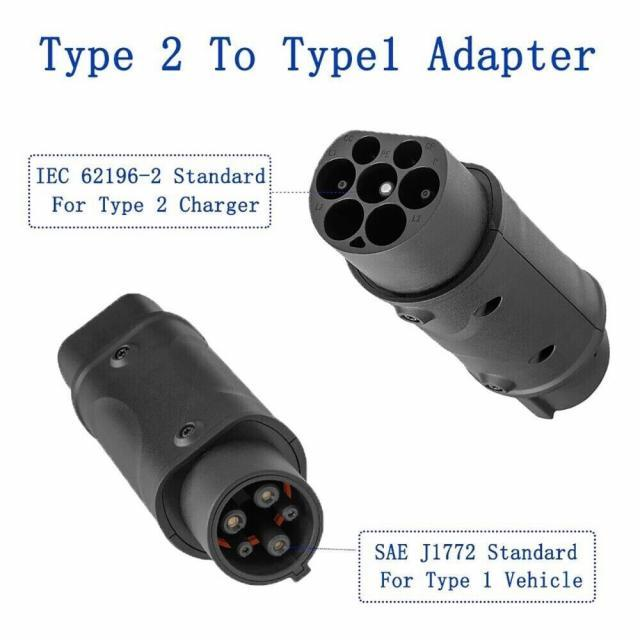Type 2: (285, 99, 469, 294)
